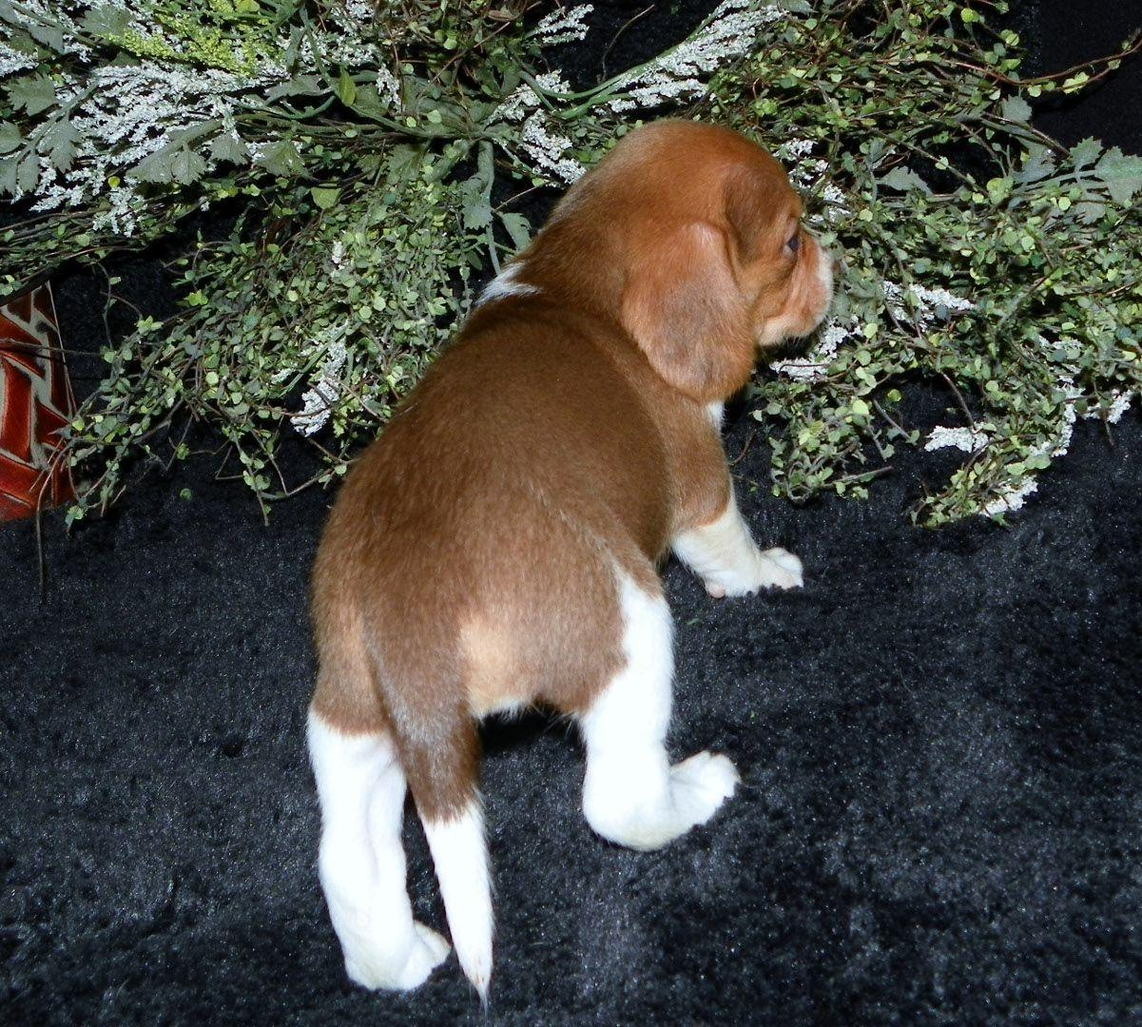puppy-dog: (297, 113, 842, 1014)
